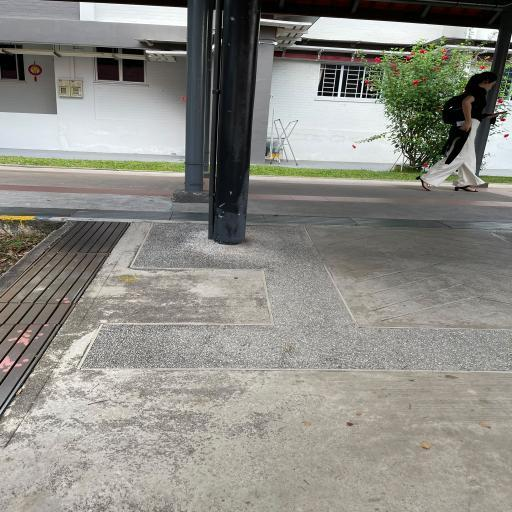person_right: (416, 72, 504, 192)
